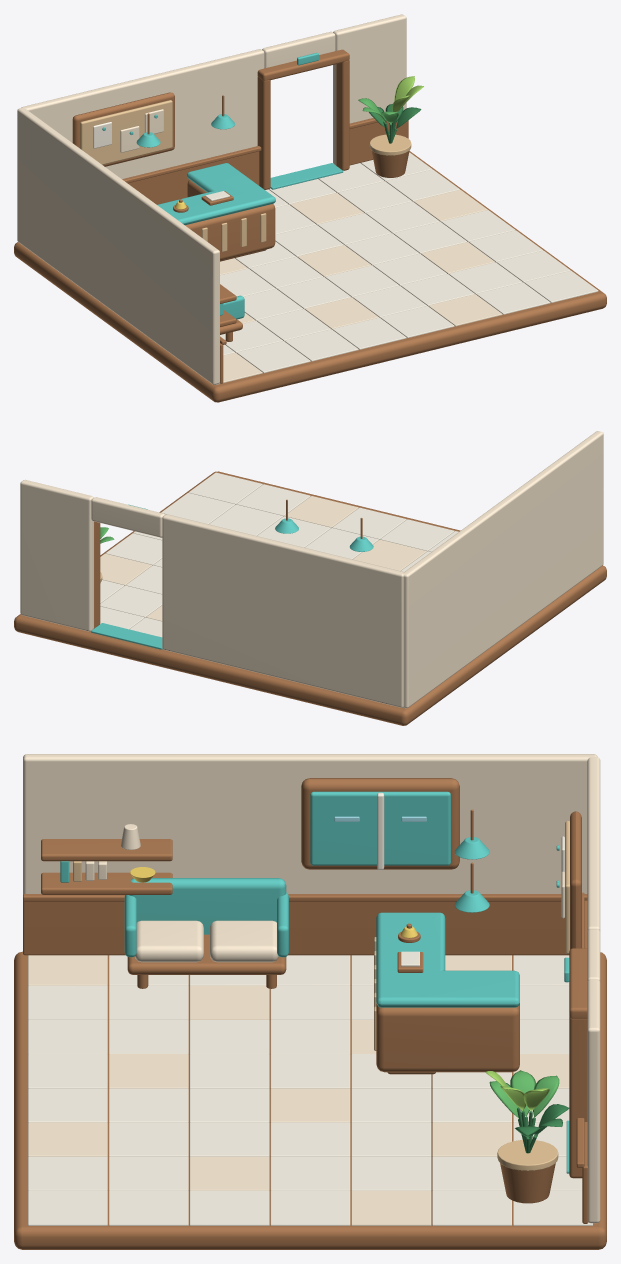
Rendered from reception.glb.
The picture shows the model from 3 angles, top to bottom: view 1: azimuth 30°, elevation 25°; view 2: azimuth 150°, elevation 25°; view 3: azimuth 270°, elevation 25°; orthographic projection. The views are drawn at different scales.
Visible parts, largest first — view 1: ITReception_Left wall, ITReception_Back left, ITReception_Floating plinth, ITReception_Back right, ITReception_Coral counter crown, ITReception_Noticeboard inset, ITReception_L counter warm carcass, ITReception_Back left lower band, ITReception_Door jamb.001, ITReception_Door lintel wall, ITReception_Door jamb, ITReception_Noticeboard frame (+45 smaller); view 2: ITReception_Back left, ITReception_Left wall, ITReception_Floating plinth, ITReception_Back right, ITReception_Door lintel wall, ITReception_Tile 3-0, ITReception_Tile 7-0, ITReception_Tile 5-0, ITReception_Tile 6-1, ITReception_Tile 7-1, ITReception_Tile 4-0, ITReception_Tile 6-0 (+11 smaller); view 3: ITReception_Left wall, ITReception_Floating plinth, ITReception_Left lower band, ITReception_Blue inset glass, ITReception_L counter warm carcass, ITReception_Coral counter crown, ITReception_Upholstered back, ITReception_Rounded window frame, ITReception_Back right, ITReception_Tile 7-2, ITReception_Tile 7-3, ITReception_Tile 7-4 (+66 smaller).
Part boxes in pixels (x1,y1,x2,y2): ITReception_Left wall: (17, 107, 219, 384); ITReception_Back left: (21, 49, 264, 178); ITReception_Floating plinth: (14, 151, 606, 402); ITReception_Back right: (333, 14, 406, 165); ITReception_Coral counter crown: (157, 163, 275, 225); ITReception_Noticeboard inset: (80, 100, 172, 164); ITReception_L counter warm carcass: (185, 180, 275, 260); ITReception_Back left lower band: (128, 151, 259, 204); ITReception_Door jamb.001: (336, 60, 349, 170); ITReception_Door lintel wall: (262, 31, 335, 67); ITReception_Door jamb: (257, 77, 270, 189); ITReception_Noticeboard frame: (72, 92, 174, 166); ITReception_Back left: (162, 514, 403, 707); ITReception_Left wall: (403, 431, 603, 708); ITReception_Floating plinth: (14, 471, 606, 725); ITReception_Back right: (20, 479, 93, 631); ITReception_Door lintel wall: (91, 497, 164, 537); ITReception_Tile 3-0: (380, 519, 454, 551); ITReception_Tile 7-0: (188, 472, 262, 504); ITReception_Tile 5-0: (284, 496, 358, 528); ITReception_Tile 6-1: (209, 504, 282, 536); ITReception_Tile 7-1: (161, 493, 234, 524); ITReception_Tile 4-0: (332, 507, 406, 539); ITReception_Tile 6-0: (236, 484, 310, 516); ITReception_Left wall: (23, 754, 597, 894); ITReception_Floating plinth: (14, 951, 606, 1249); ITReception_Left lower band: (23, 901, 569, 955); ITReception_Blue inset glass: (310, 791, 450, 865); ITReception_L counter warm carcass: (376, 1003, 519, 1072); ITReception_Coral counter crown: (376, 912, 519, 1007); ITReception_Upholstered back: (129, 878, 286, 934); ITReception_Rounded window frame: (301, 778, 459, 869); ITReception_Back right: (587, 979, 600, 1223); ITReception_Tile 7-2: (189, 1190, 269, 1225); ITReception_Tile 7-3: (270, 1190, 350, 1225); ITReception_Tile 7-4: (351, 1190, 431, 1225).
Bounding box in the file's own units: 11.1 × 4.17 × 9.9.
